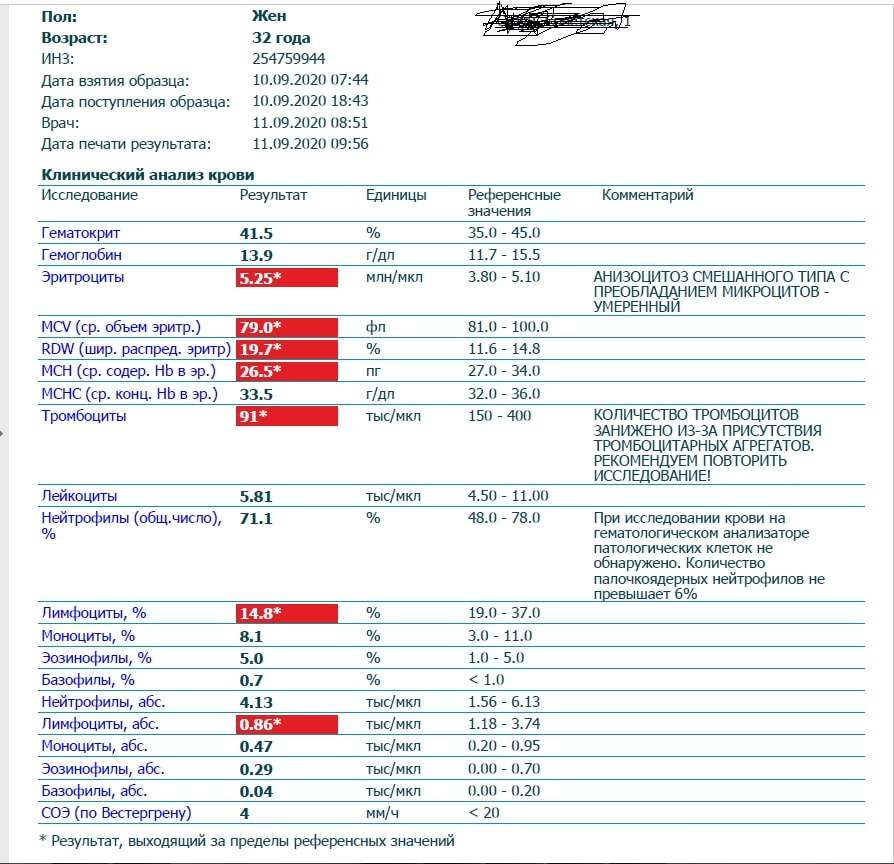column: (592, 185, 852, 823), (39, 185, 232, 823), (466, 185, 563, 823), (238, 185, 308, 823), (365, 185, 427, 823)
